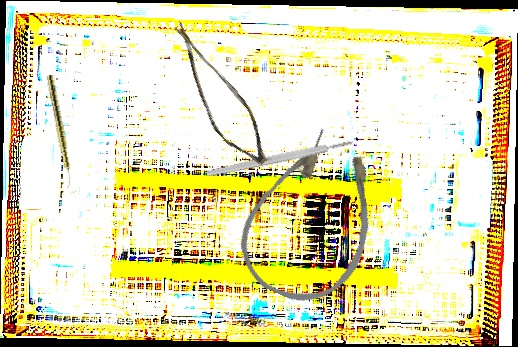Cannula: (224, 115, 403, 319)
Handpiece: (44, 74, 76, 189)
Micro Scissor: (142, 18, 290, 173)
Scalpel Handle: (204, 138, 355, 179)
